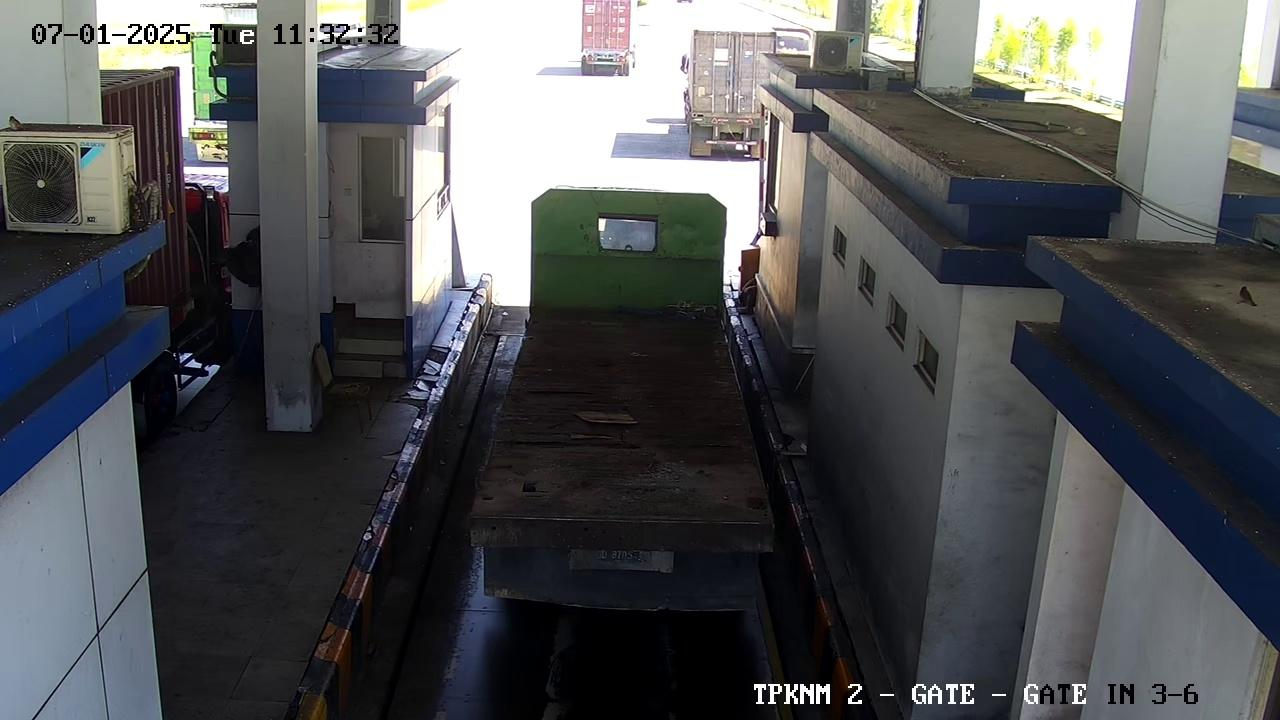plate_number: (577, 541, 661, 579)
